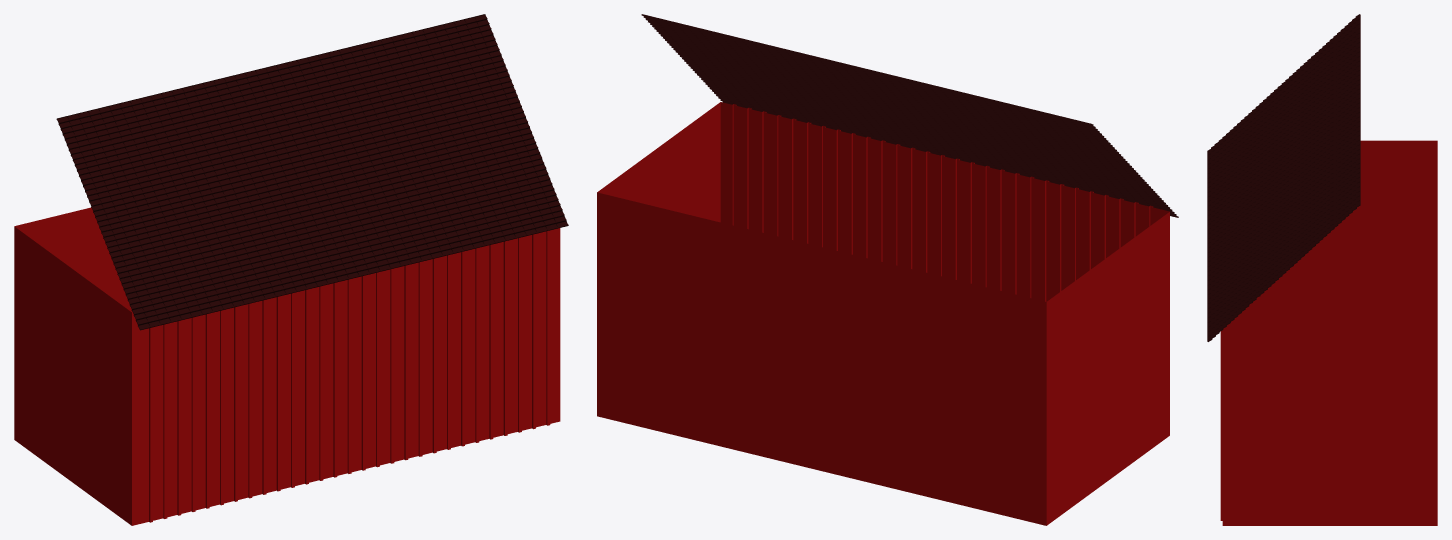
File: testhouse.obj
3 views of the same model, side by side, from view 1: azimuth 30°, elevation 25°; view 2: azimuth 150°, elevation 25°; view 3: azimuth 270°, elevation 25° (orthographic). The views are drawn at different scales.
Parts seen in each view (by area): view 1: Cube, Plane; view 2: Cube, Plane; view 3: Cube, Plane.
Boxes of the visible parts, <box> form: Cube: <box>14,207,560,525</box>; Plane: <box>56,14,568,330</box>; Cube: <box>597,102,1169,525</box>; Plane: <box>641,14,1178,217</box>; Cube: <box>1220,140,1437,525</box>; Plane: <box>1207,14,1360,341</box>.
Bounding box in the file's own units: 4.2 × 3.3 × 2.14.
